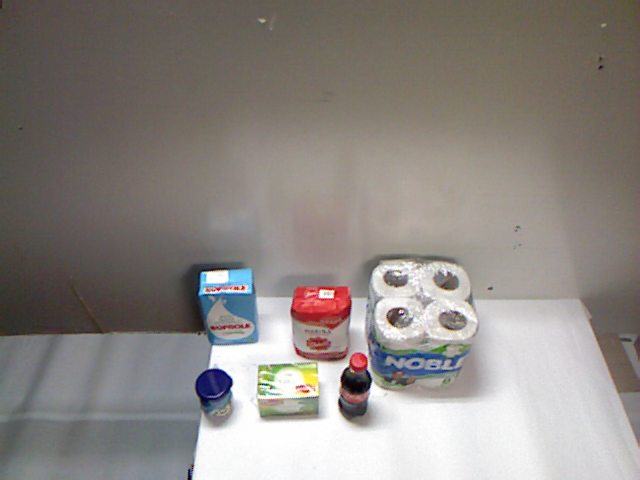aceite: (294, 230, 345, 341)
balsamo: (205, 274, 257, 362)
cafe: (277, 319, 336, 400)
confort: (338, 248, 448, 383)
desodorante: (235, 346, 273, 397)
papas: (247, 230, 300, 341)
